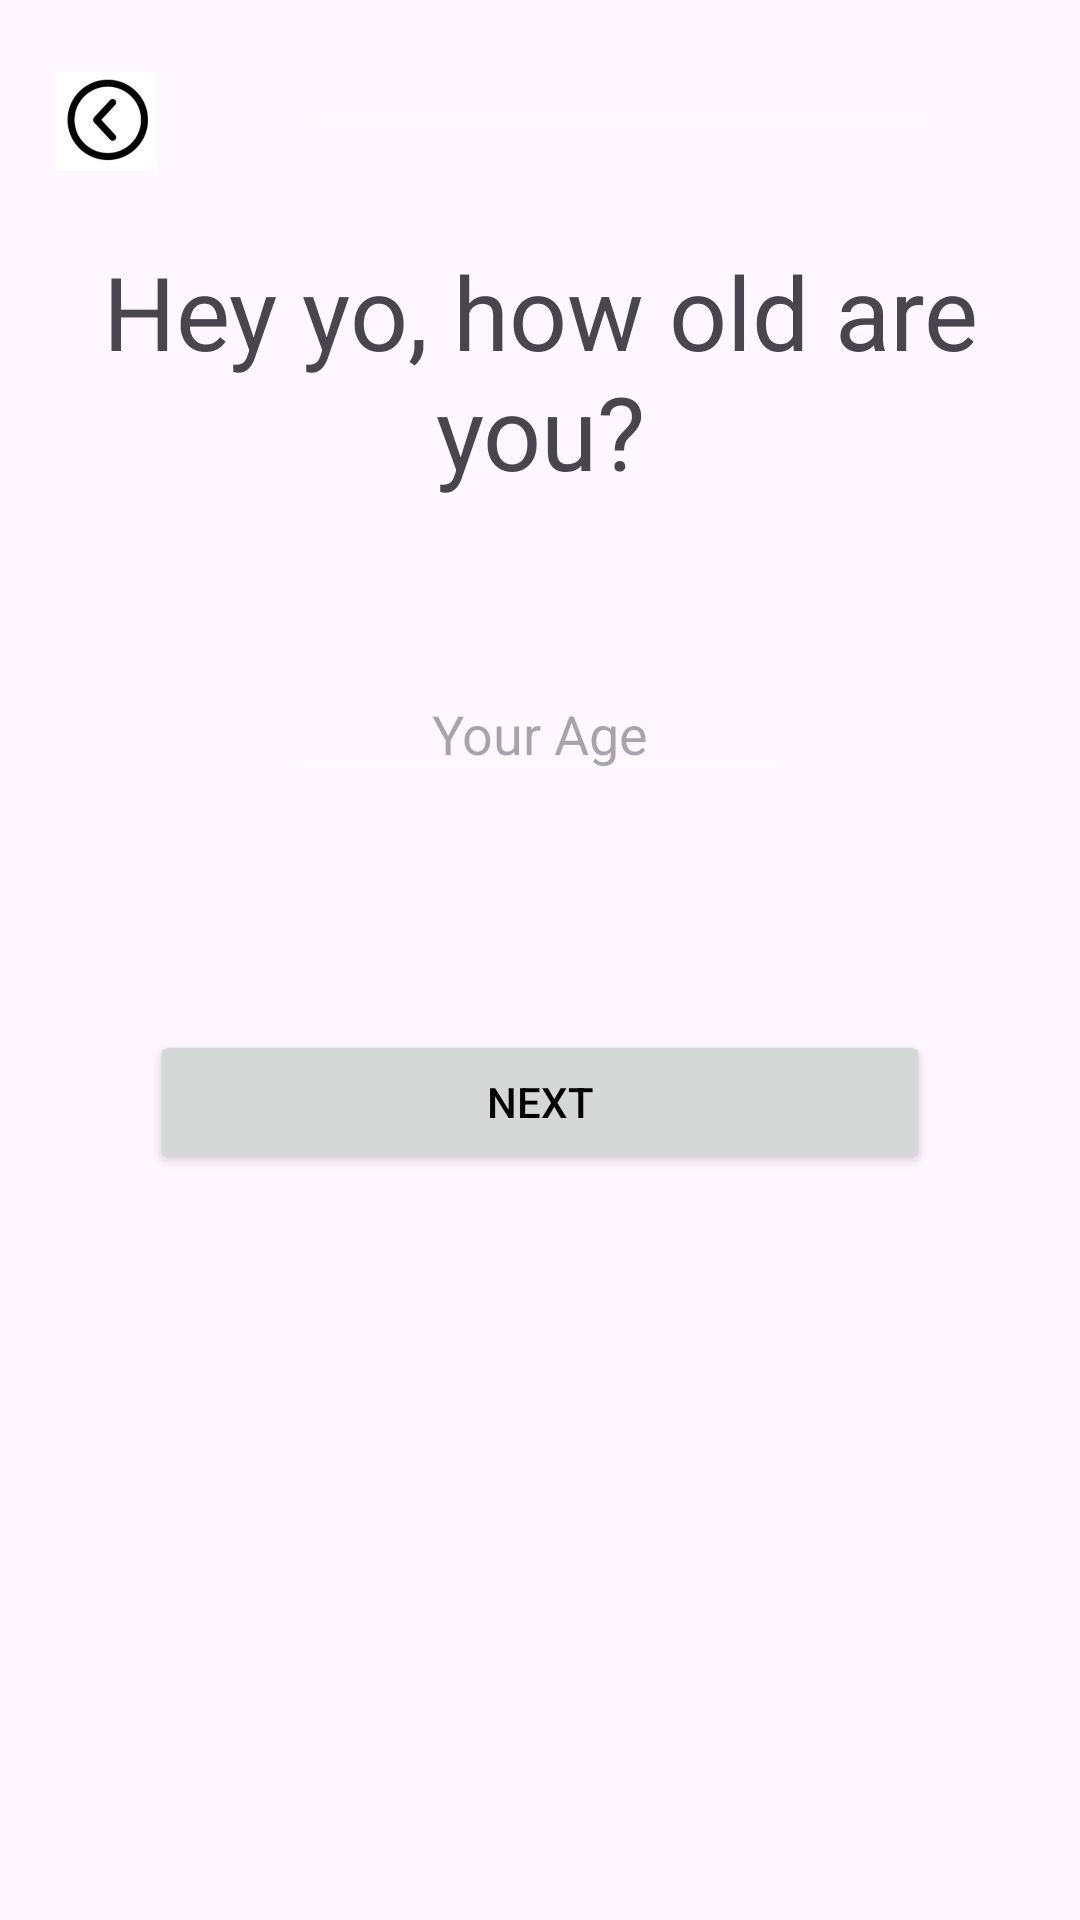

Icon click points for this 1080*1920 phone screenshot, format (x=x, y=y):
back: (x=107, y=119)
